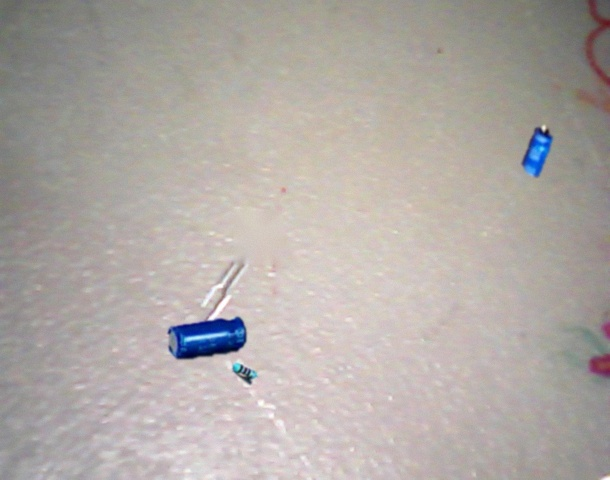capacitor: (168, 317, 246, 359), (521, 125, 553, 178)
resistor: (230, 358, 259, 385)
